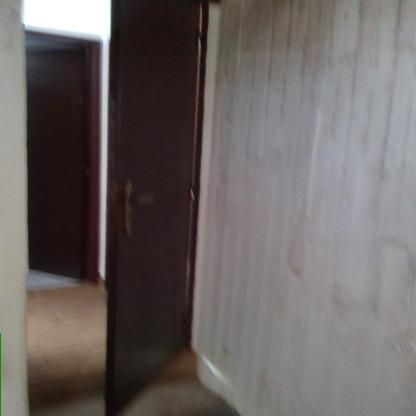semi: (12, 2, 212, 415)
